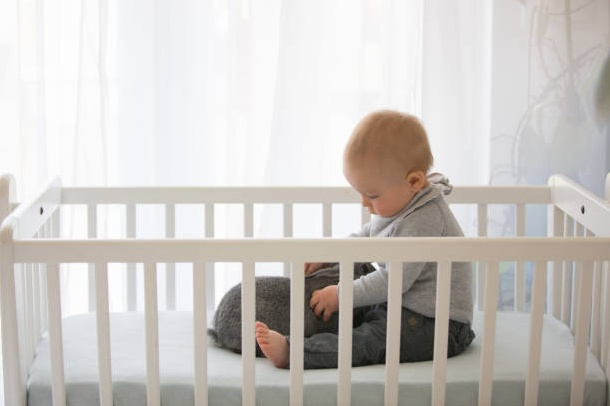baby: (343, 110, 462, 236)
crib: (0, 175, 609, 404)
